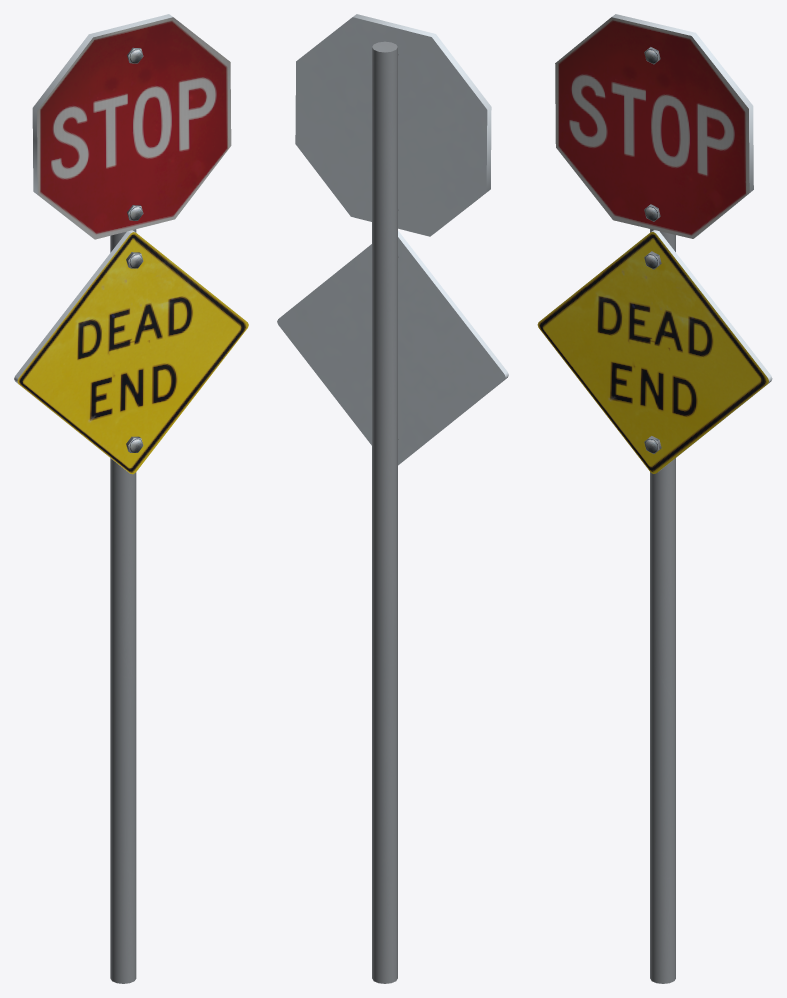
The model's file is StreetSigns_6.fbx.
3 renders of one model, left to right at view 1: azimuth 30°, elevation 25°; view 2: azimuth 150°, elevation 25°; view 3: azimuth 330°, elevation 25°, orthographic.
Parts seen in each view (by area): view 1: StreetSigns_6; view 2: StreetSigns_6; view 3: StreetSigns_6.
Boxes of the visible parts, x1,y1,x2,y2 form: StreetSigns_6: [14, 14, 248, 983]; StreetSigns_6: [277, 14, 508, 983]; StreetSigns_6: [537, 14, 772, 983].
Bounding box in the file's own units: 1.03 × 4.07 × 0.1481.
